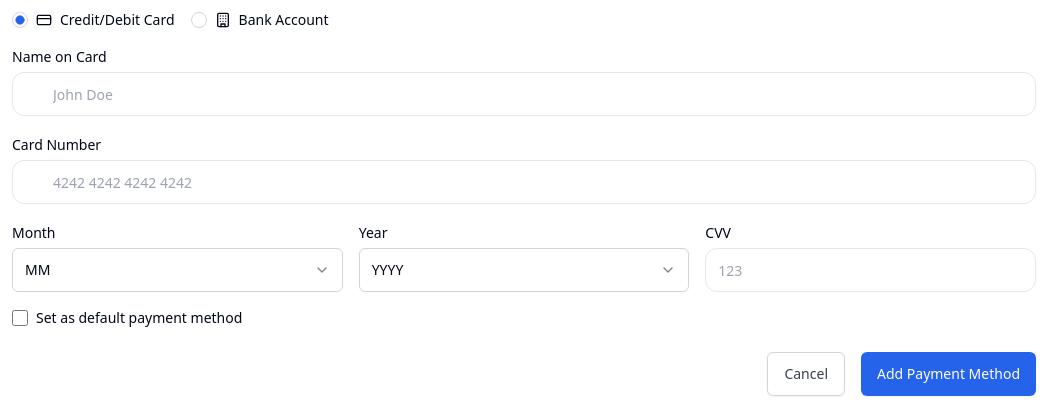
Test: PaymentMethodForm Component › Form Interactions - Card › limits CVV to 4 digits
Type "123456" into the field labelled "CVV" at (871,270), box top-left (705, 248), bottom-right (1036, 292)
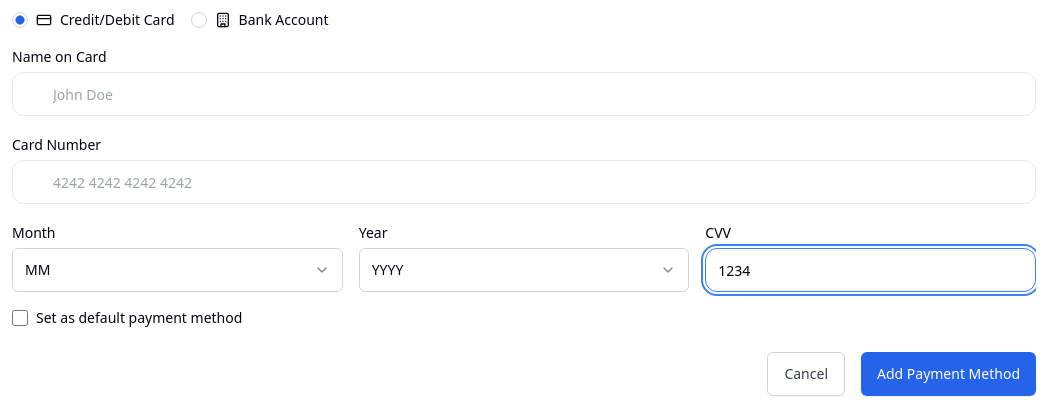
Now the field labelled "CVV" holds "1234", box top-left (705, 248), bottom-right (1036, 292)
